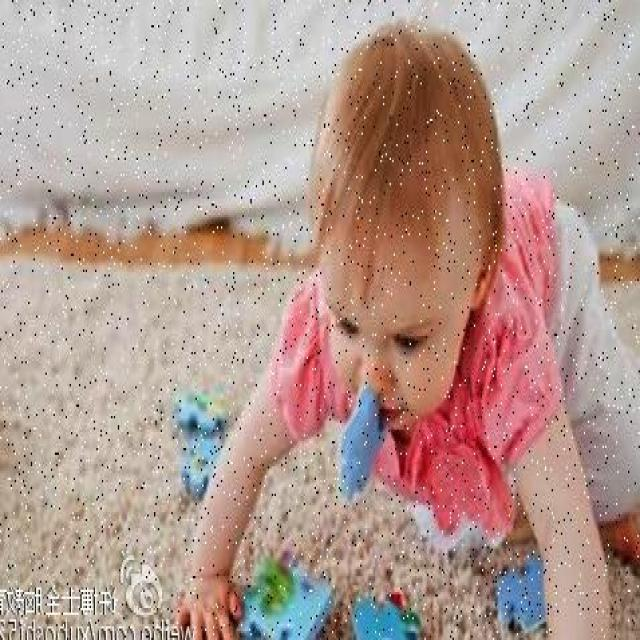fall: (198, 122, 612, 638)
